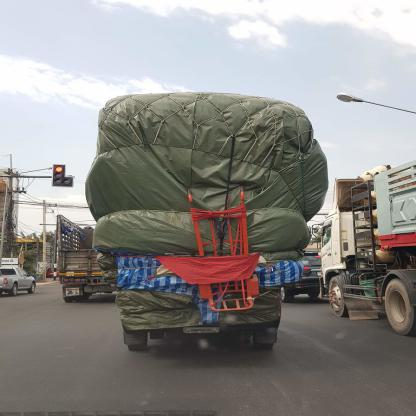overloaded-truck: (84, 86, 321, 288)
